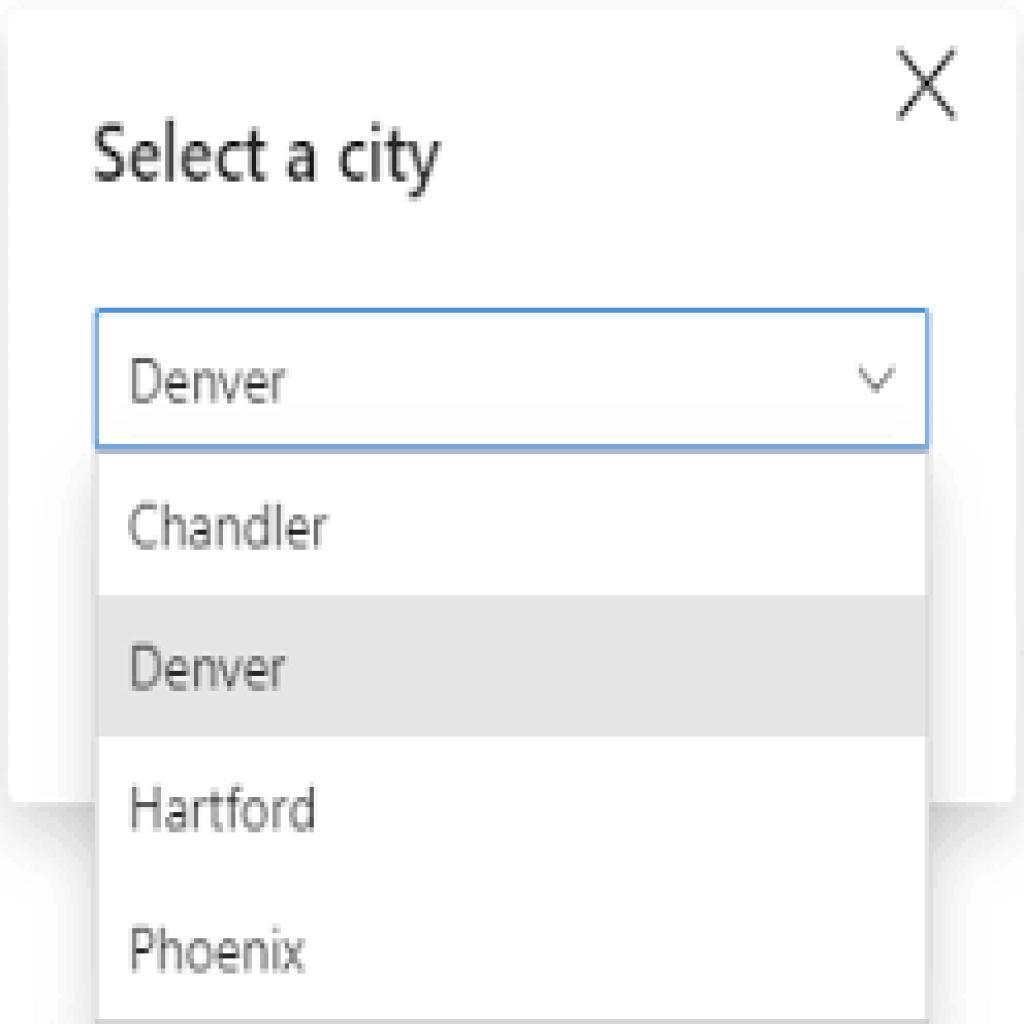dropdown: (97, 309, 928, 451)
icon: (891, 41, 969, 130)
